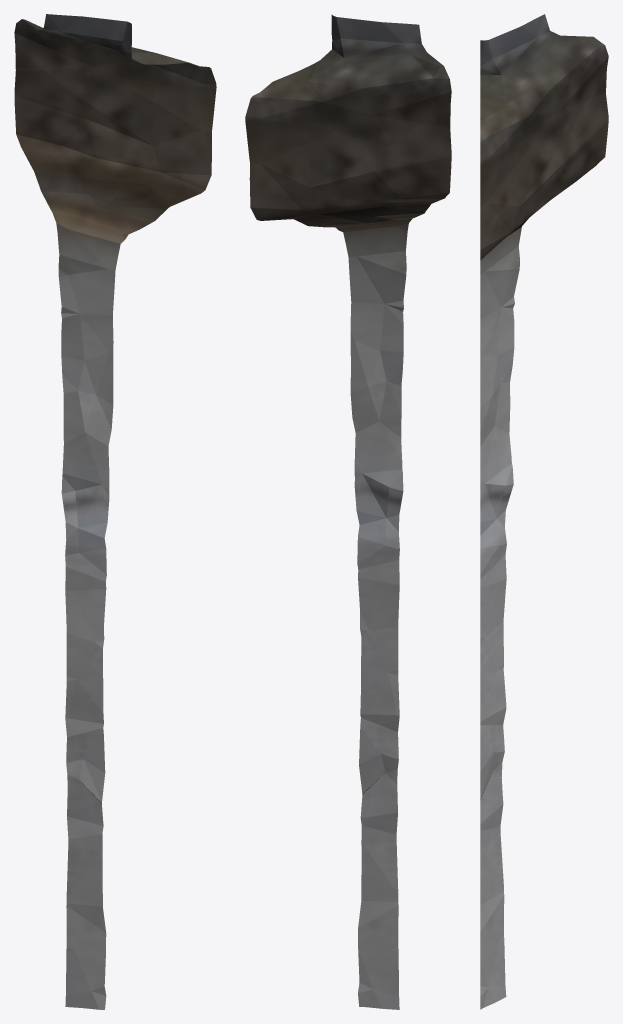
3 renders of one model, left to right at view 1: azimuth 30°, elevation 25°; view 2: azimuth 210°, elevation 25°; view 3: azimuth 270°, elevation 25°, orthographic. The views are drawn at different scales.
Size of the model in its own units: 0.1236 by 0.8374 by 0.0993.
Materials: 1 (1 with a texture image).
